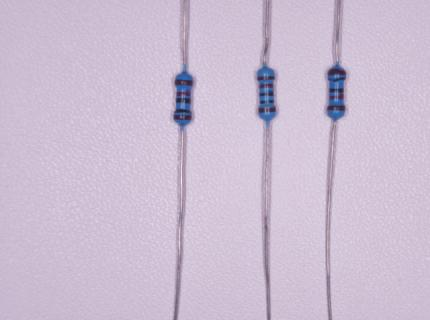Black band: (176, 97, 191, 104), (175, 108, 192, 114), (329, 77, 347, 82), (329, 88, 344, 93), (259, 92, 274, 96), (260, 100, 274, 104)
Brown band: (174, 79, 193, 86), (328, 68, 347, 75), (173, 114, 192, 120), (327, 105, 346, 111), (258, 108, 276, 113), (257, 76, 275, 80)
Red band: (329, 94, 344, 100), (176, 91, 191, 96), (259, 83, 274, 88)
